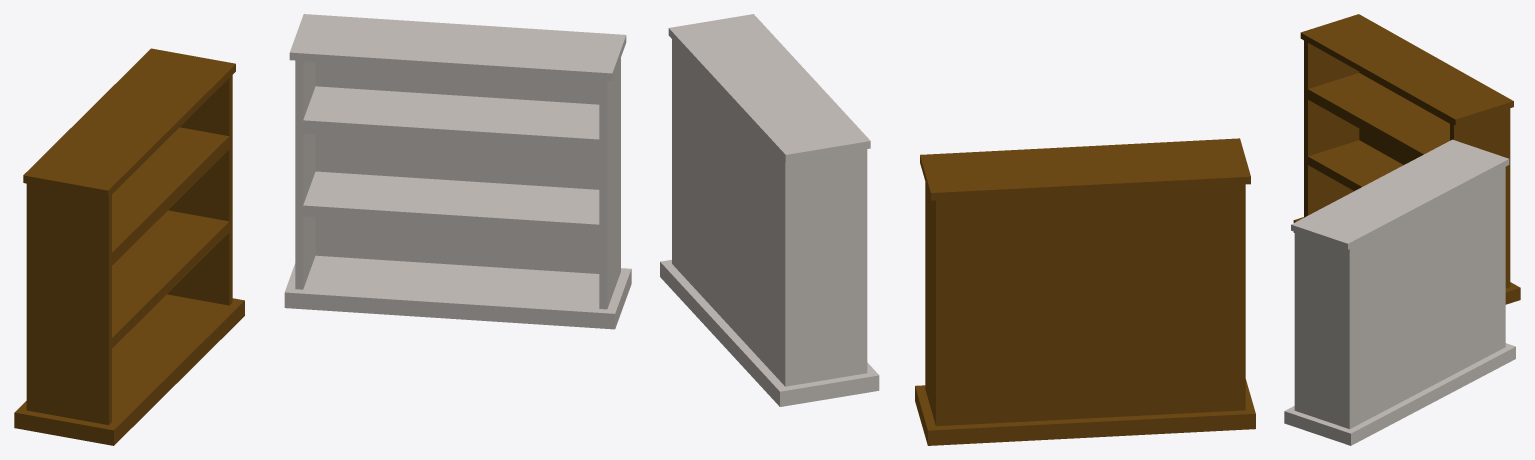
File: basic_shelf.fbx
3 views of the same model, side by side, from view 1: azimuth 30°, elevation 25°; view 2: azimuth 150°, elevation 25°; view 3: azimuth 270°, elevation 25° (orthographic). The views are drawn at different scales.
Parts seen in each view (by area): view 1: Cube.001, Cube; view 2: Cube, Cube.001; view 3: Cube.001, Cube.
Part boxes in pixels (<box>): Cube.001: <box>284,14,631,329</box>; Cube: <box>14,48,244,445</box>; Cube: <box>915,138,1255,445</box>; Cube.001: <box>660,14,879,406</box>; Cube.001: <box>1284,139,1515,445</box>; Cube: <box>1293,14,1520,304</box>.
Bounding box in the file's own units: 1695 × 670 × 720.
